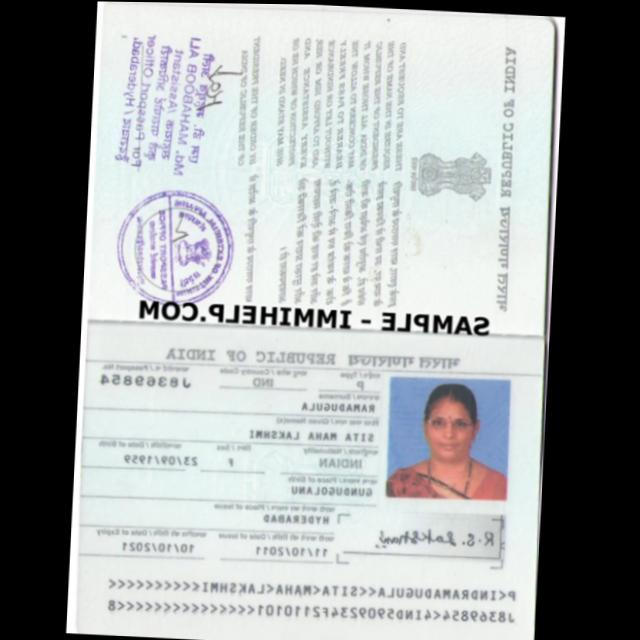passport: (68, 325, 549, 640)
